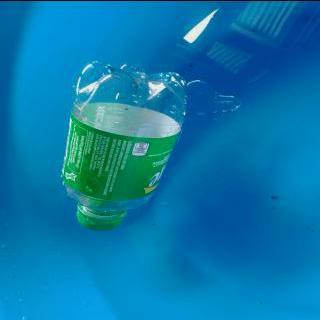bottle: (58, 60, 190, 230)
